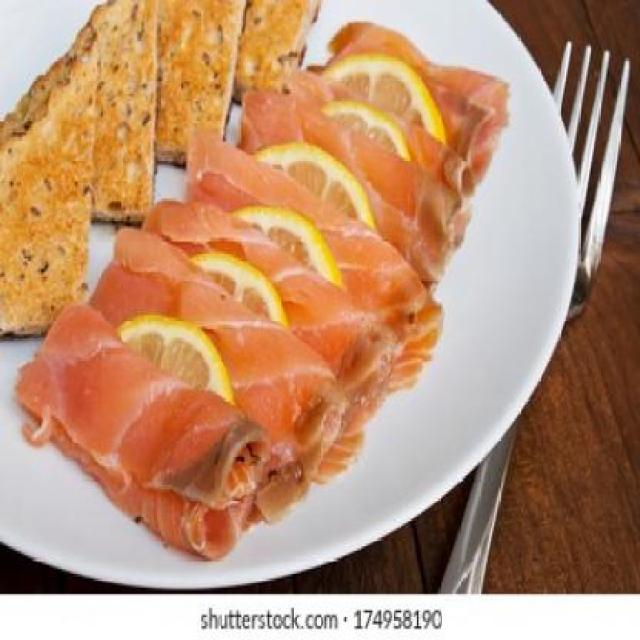salmon: (8, 290, 265, 568), (140, 182, 391, 444), (84, 253, 340, 502), (182, 142, 426, 386), (231, 94, 464, 299), (274, 62, 471, 235), (326, 25, 507, 142)
